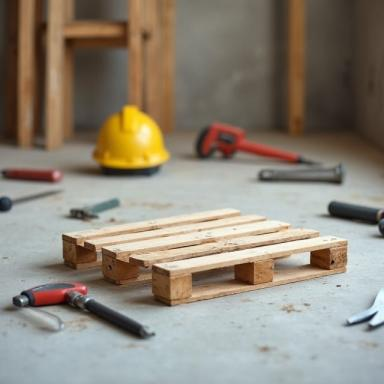pallet: (62, 207, 348, 307)
